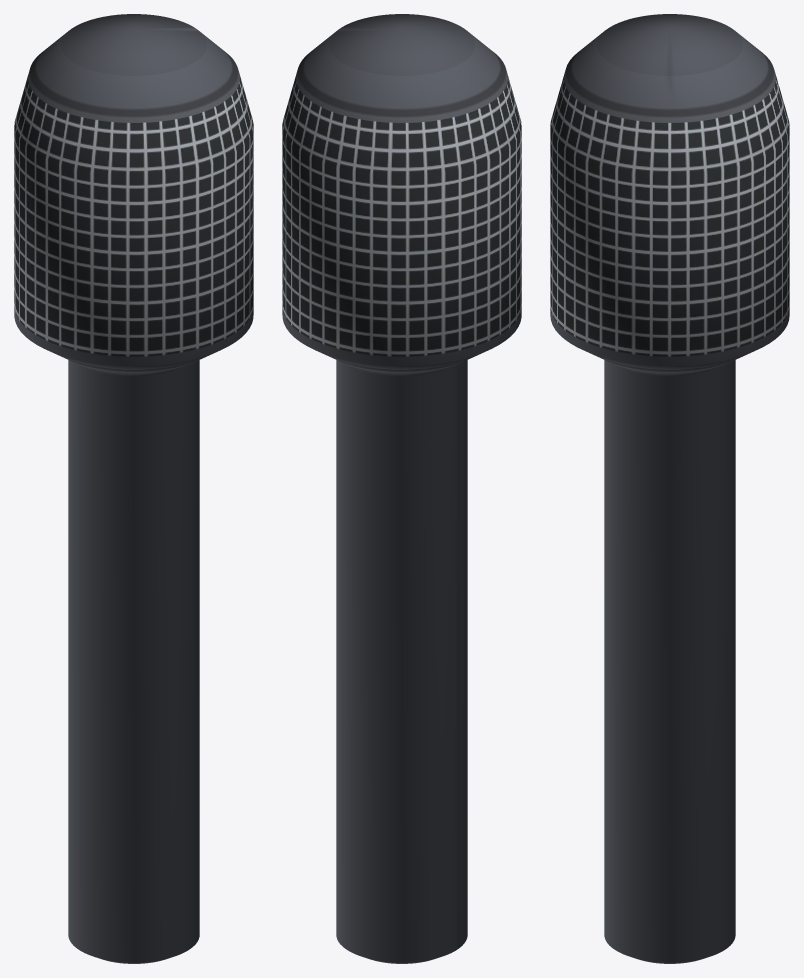
The model's file is rode-nt-sf1.glb.
3 views of the same model, side by side, from view 1: azimuth 30°, elevation 25°; view 2: azimuth 150°, elevation 25°; view 3: azimuth 270°, elevation 25° (orthographic).
Parts seen in each view (by area): view 1: rode-nt-sf1-body; view 2: rode-nt-sf1-body; view 3: rode-nt-sf1-body.
Boxes of the visible parts, left/top/right/bottom form: rode-nt-sf1-body: left=14, top=14, right=253, bottom=963; rode-nt-sf1-body: left=282, top=14, right=521, bottom=963; rode-nt-sf1-body: left=550, top=14, right=789, bottom=963.
Bounding box in the file's own units: 0.0457 × 0.1923 × 0.0457.
1 material, 1 textured.
